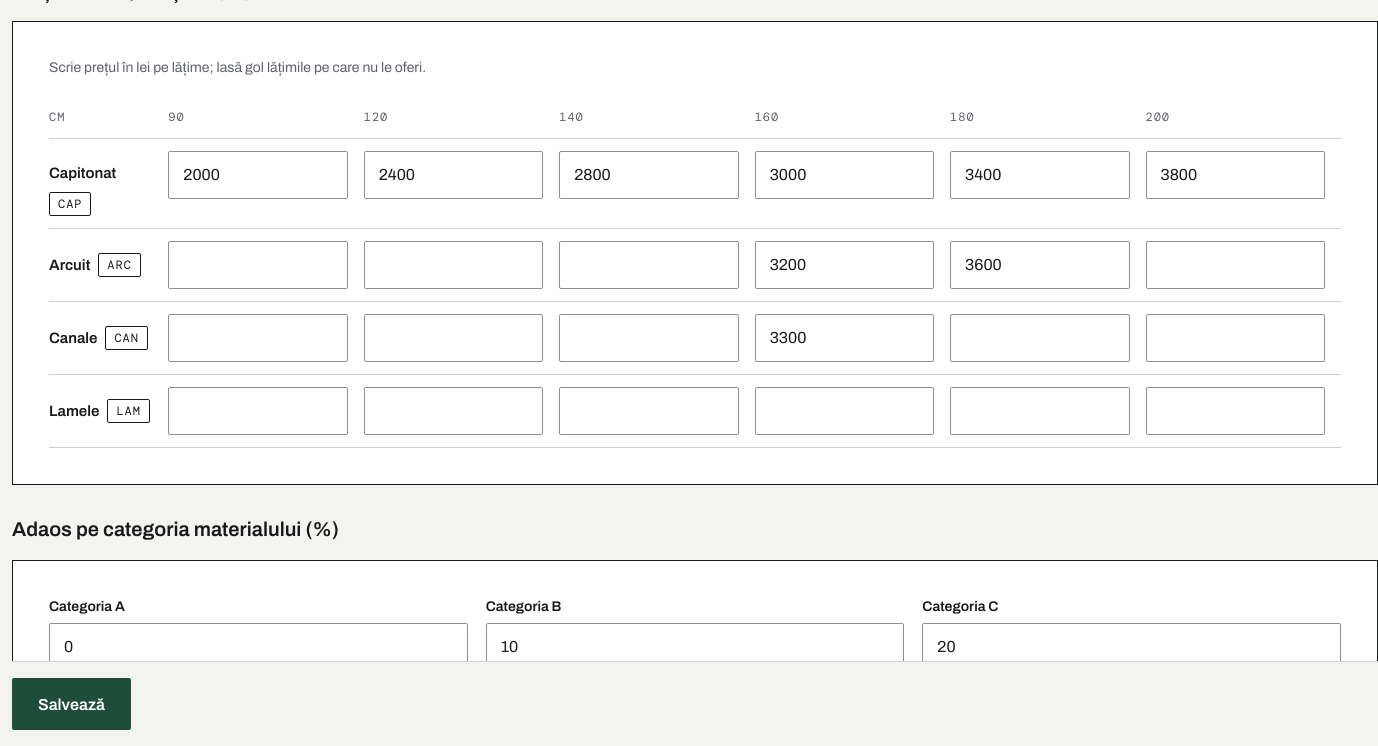
PricingForm › shows a plain error without field errors
Click the button "Salvează" at (72, 704), box [12,678,131,730]
(page scrolled)
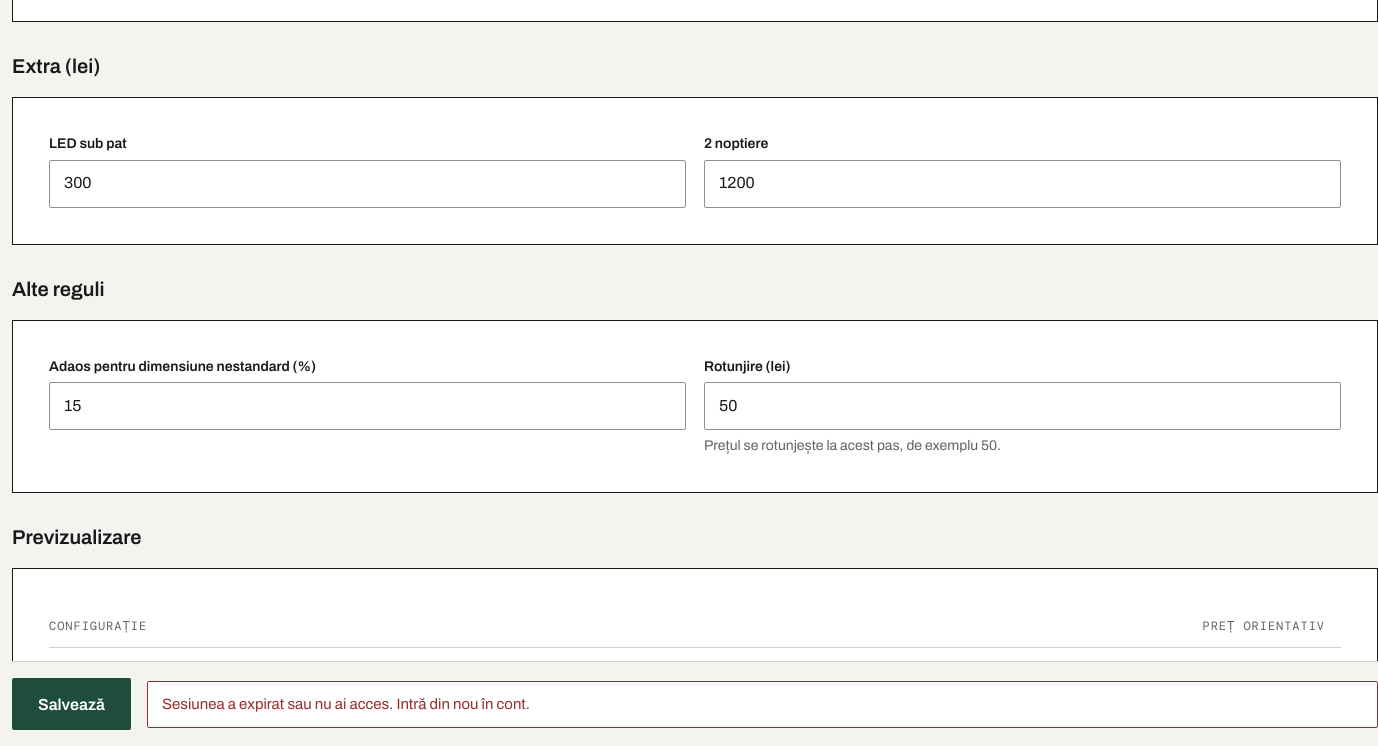
Check: the message reads "Sesiunea a expirat sau nu ai acces. Intră din nou în cont.", box [162,696,530,712]
